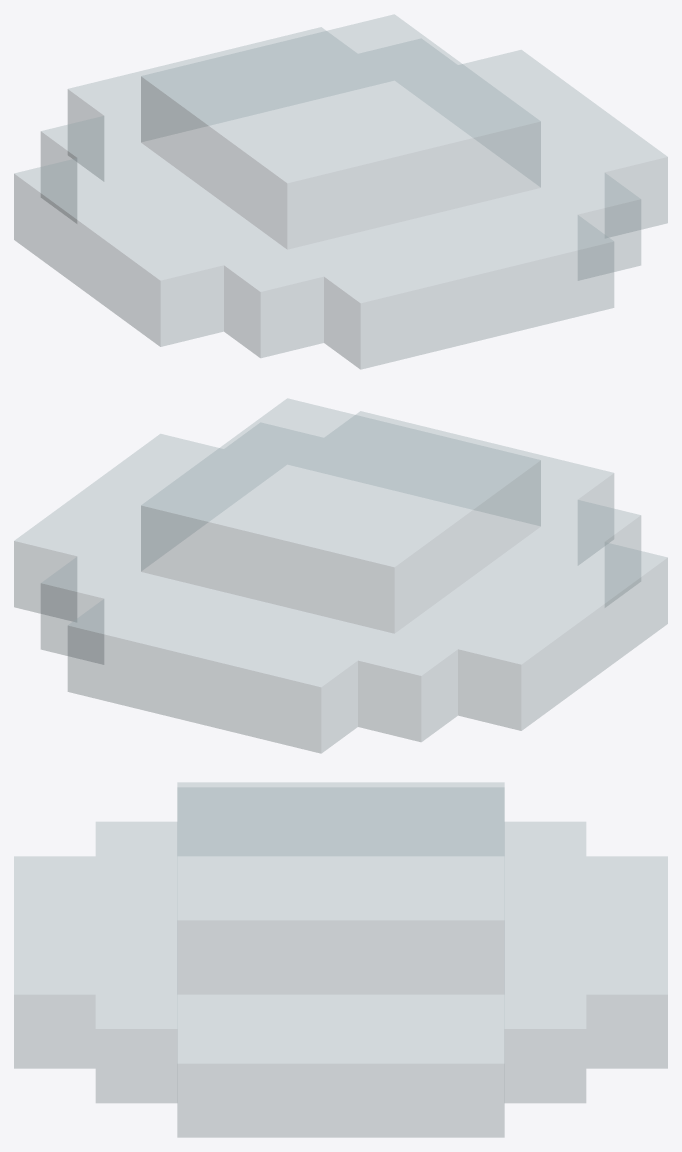
File: lens_small.glb
The picture shows the model from 3 angles, top to bottom: view 1: azimuth 30°, elevation 25°; view 2: azimuth 150°, elevation 25°; view 3: azimuth 270°, elevation 25°; orthographic projection. The views are drawn at different scales.
Parts seen in each view (by area): view 1: lens_small:compound; view 2: lens_small:compound; view 3: lens_small:compound.
Part boxes in pixels (box(x1,y1,x2,y2)): lens_small:compound: box(14, 14, 667, 369); lens_small:compound: box(14, 398, 667, 753); lens_small:compound: box(14, 782, 667, 1137).
Size of the model in its own units: 0.016 by 0.004 by 0.016.
